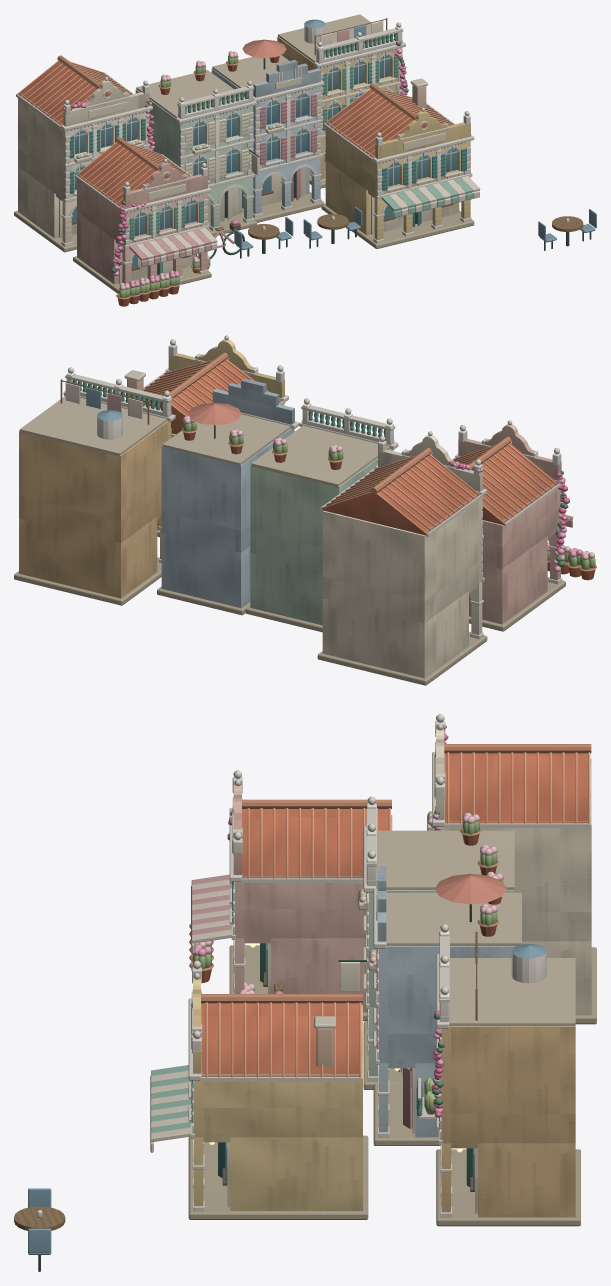
The model's file is town.glb.
The picture shows the model from 3 angles, top to bottom: view 1: azimuth 30°, elevation 25°; view 2: azimuth 150°, elevation 25°; view 3: azimuth 270°, elevation 25°; orthographic projection. The views are drawn at different scales.
Visible parts, largest first — view 1: town_static; view 2: town_static; view 3: town_static.
Boxes of the visible parts, left/top/right/bottom form: town_static: left=14, top=14, right=596, bottom=306; town_static: left=14, top=335, right=596, bottom=685; town_static: left=14, top=714, right=596, bottom=1271.
Size of the model in its own units: 13.76 by 5.03 by 10.01.
9 materials, 4 textured.
